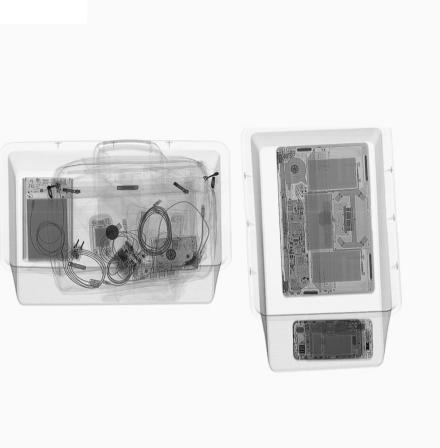Powerbank: (26, 197, 70, 263)
